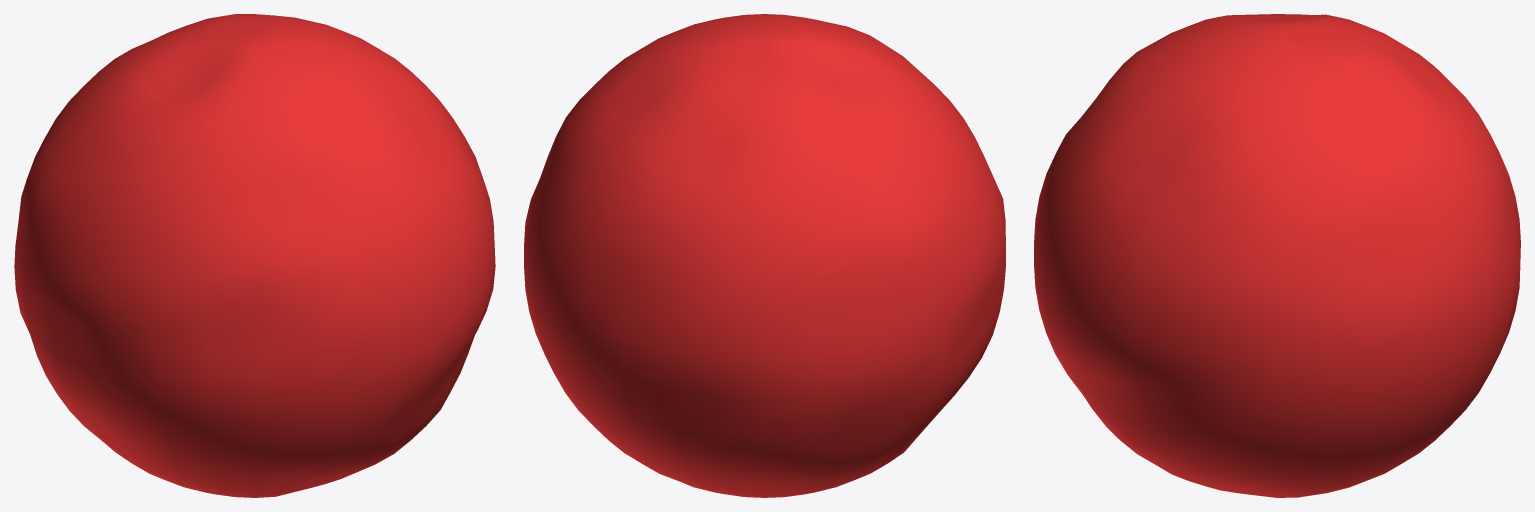
The model's file is clay.fbx.
3 views of the same model, side by side, from view 1: azimuth 30°, elevation 25°; view 2: azimuth 150°, elevation 25°; view 3: azimuth 270°, elevation 25° (orthographic).
Parts seen in each view (by area): view 1: pSphere2; view 2: pSphere2; view 3: pSphere2.
Part boxes in pixels (x1=…): pSphere2: x1=14, y1=14, x2=495, y2=497; pSphere2: x1=524, y1=14, x2=1005, y2=497; pSphere2: x1=1034, y1=14, x2=1520, y2=497.
Size of the model in its own units: 5.45 by 5.46 by 5.44.
